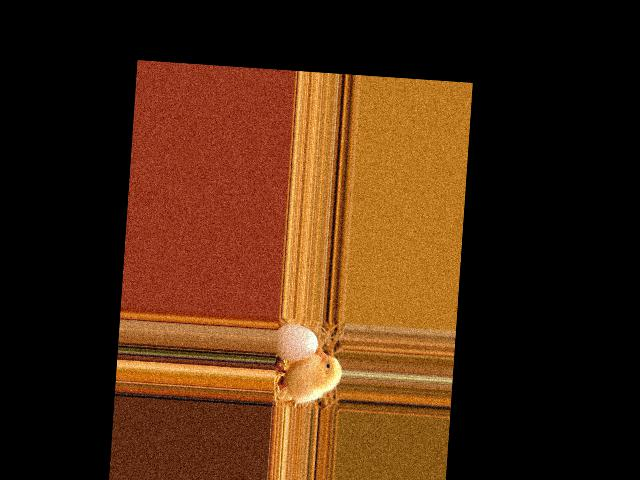egg: (274, 323, 319, 363)
